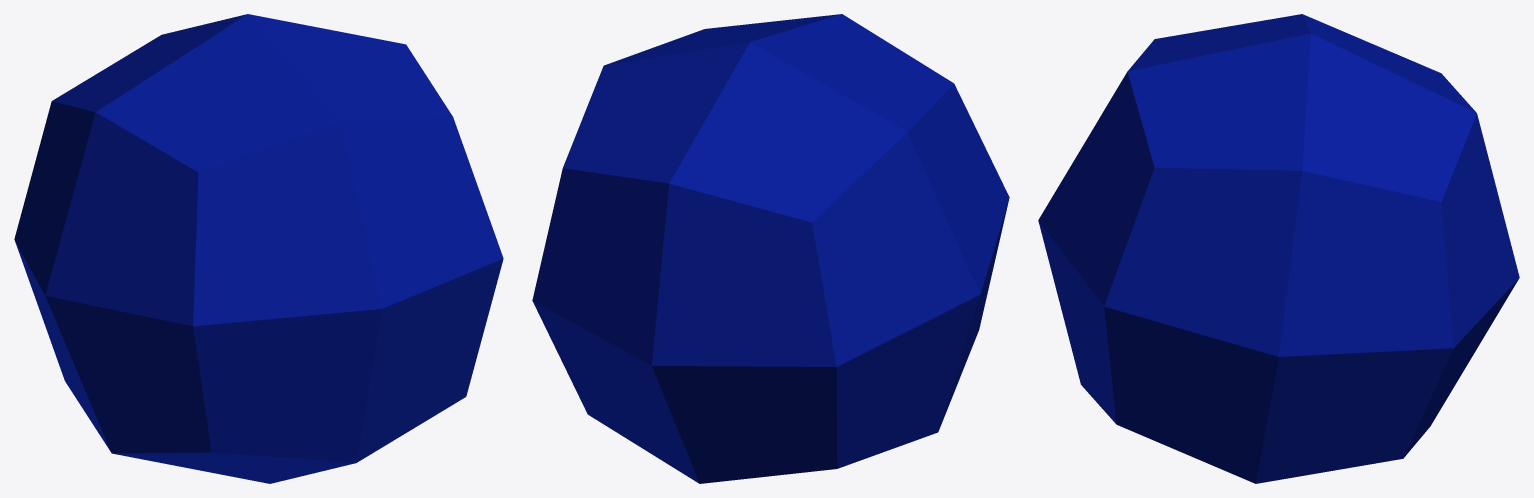
3 views of the same model, side by side, from view 1: azimuth 30°, elevation 25°; view 2: azimuth 150°, elevation 25°; view 3: azimuth 270°, elevation 25° (orthographic). The views are drawn at different scales.
Visible parts, largest first — view 1: Cube.021; view 2: Cube.021; view 3: Cube.021.
Boxes of the visible parts, <box> form: Cube.021: <box>14,14,503,483</box>; Cube.021: <box>532,14,1009,483</box>; Cube.021: <box>1038,14,1519,483</box>.
Size of the model in its own units: 0.00602 by 0.00596 by 0.00597.
